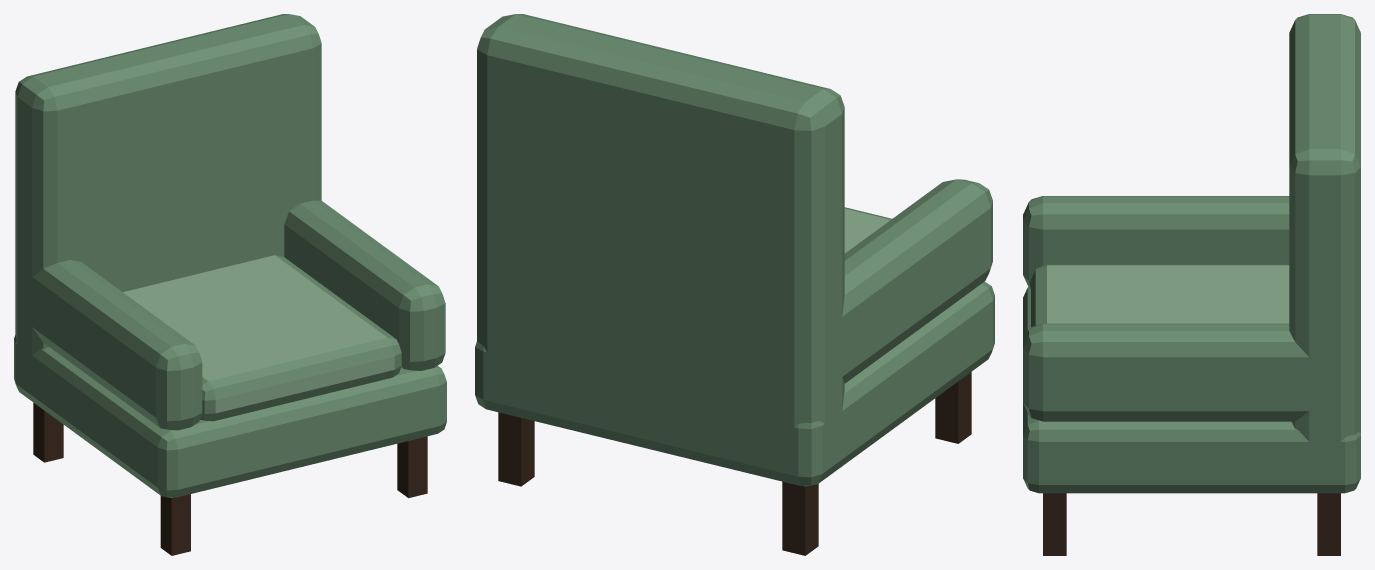
File: koltuk.glb
The picture shows the model from 3 angles, left to right: view 1: azimuth 30°, elevation 25°; view 2: azimuth 150°, elevation 25°; view 3: azimuth 270°, elevation 25°; orthographic projection. The views are drawn at different scales.
Parts seen in each view (by area): view 1: koltuk; view 2: koltuk; view 3: koltuk.
Part boxes in pixels (bbox=[...]): koltuk: bbox=[14, 14, 446, 555]; koltuk: bbox=[475, 14, 994, 555]; koltuk: bbox=[1023, 14, 1360, 555].
Bounding box in the file's own units: 0.9 × 1.13 × 0.85.
